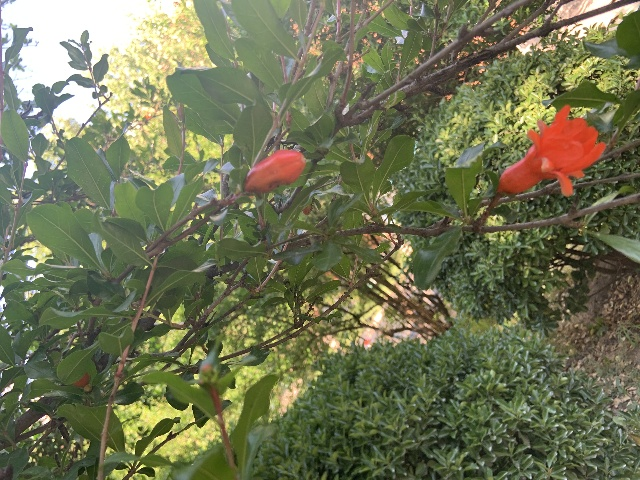bud: (244, 148, 306, 195)
flower: (497, 105, 606, 197)
